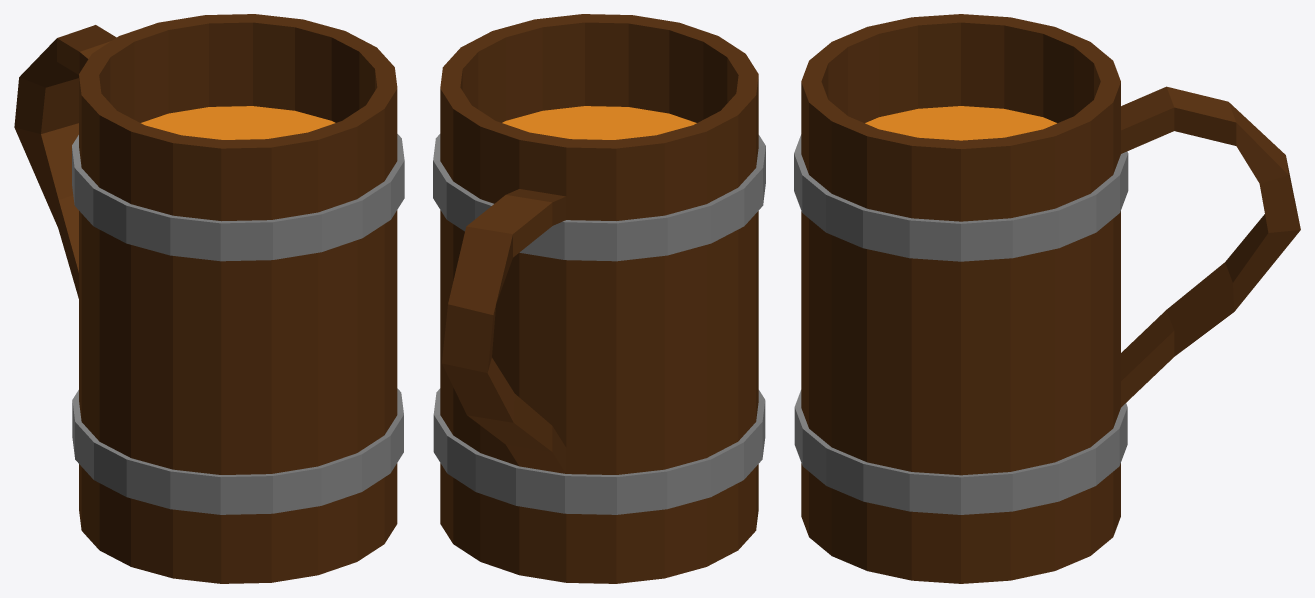
File: pint.fbx
3 renders of one model, left to right at view 1: azimuth 30°, elevation 25°; view 2: azimuth 150°, elevation 25°; view 3: azimuth 270°, elevation 25°, orthographic.
Parts seen in each view (by area): view 1: Cylinder; view 2: Cylinder; view 3: Cylinder.
Part boxes in pixels (x1,y1,x2,y2): Cylinder: (14, 14, 404, 583); Cylinder: (433, 14, 765, 583); Cylinder: (794, 14, 1300, 583).
Bounding box in the file's own units: 418 × 600 × 634.
